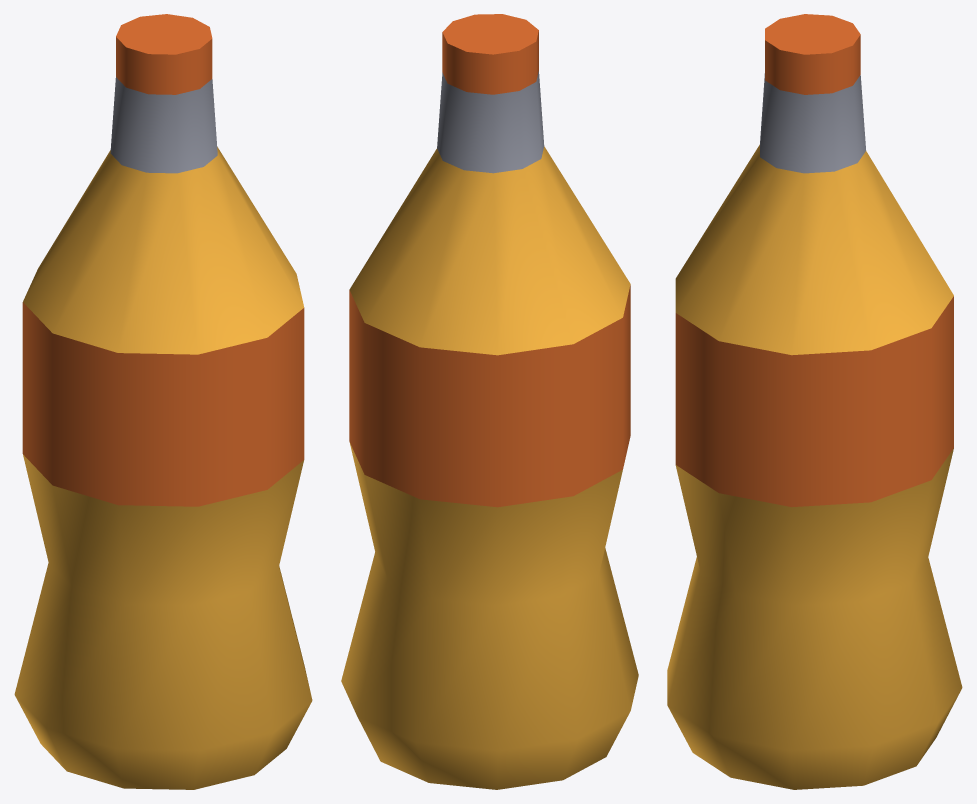
Rendered from Merinda.fbx.
3 renders of one model, left to right at view 1: azimuth 30°, elevation 25°; view 2: azimuth 150°, elevation 25°; view 3: azimuth 270°, elevation 25°, orthographic.
Visible parts, largest first — view 1: Merinda; view 2: Merinda; view 3: Merinda.
Part boxes in pixels (x1=…): Merinda: x1=14, y1=14, x2=312, y2=789; Merinda: x1=341, y1=14, x2=638, y2=789; Merinda: x1=667, y1=14, x2=962, y2=789.
Bounding box in the file's own units: 4.8 × 12.49 × 4.75.
